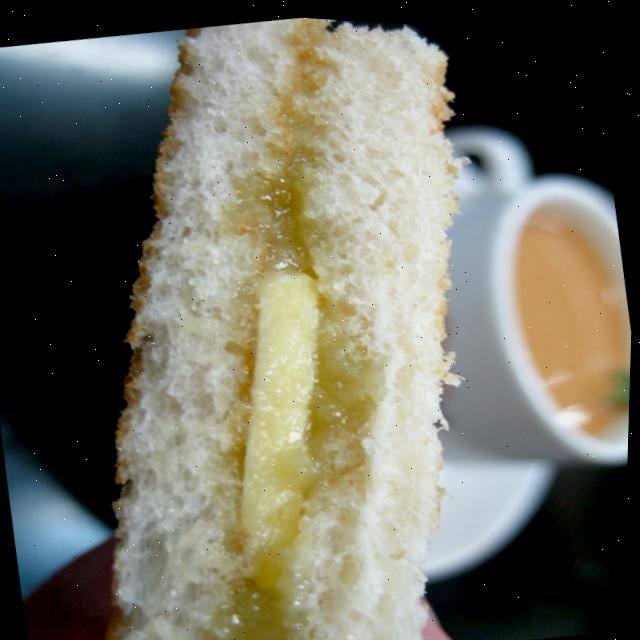面包点心: (8, 1, 595, 640)
